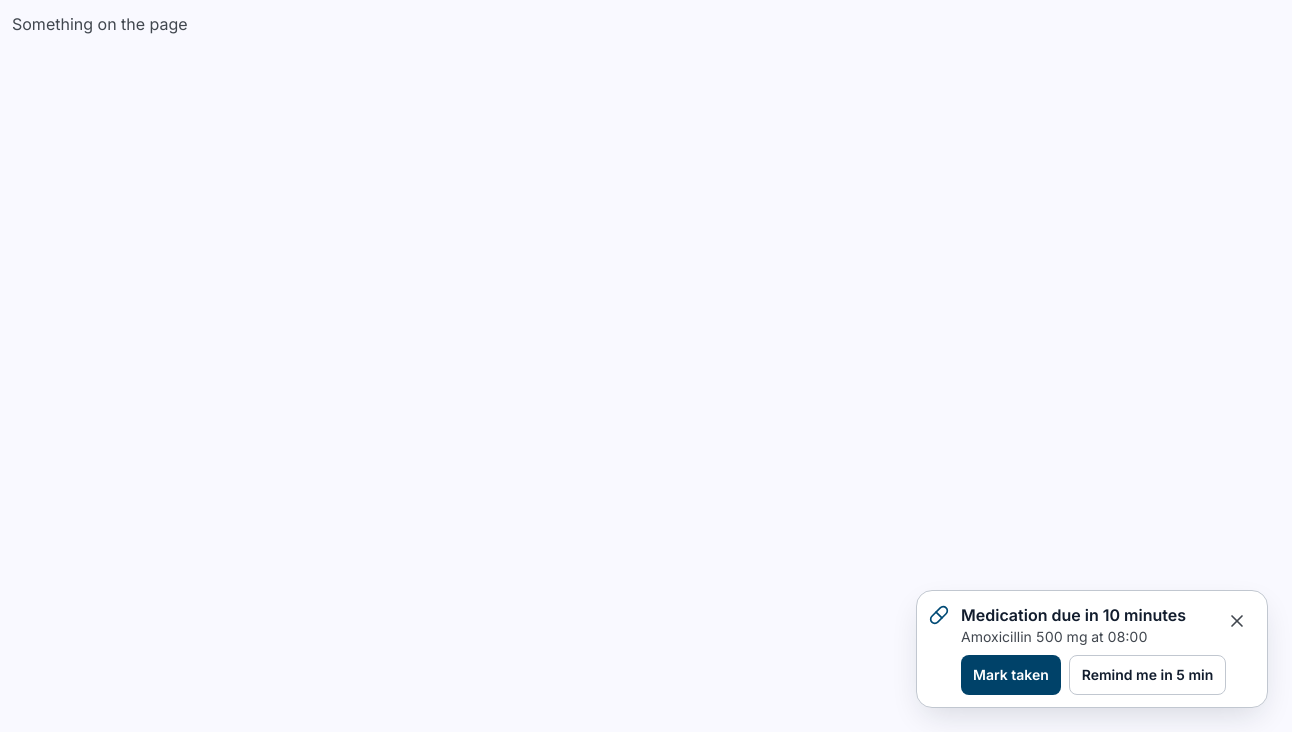
Scenario: the reminder card › snoozes for five minutes, then reminds again
Click the button with aria-label "Remind me in 5 min: Amoxicillin" at coordinates (1148, 675), box [1069,655,1226,695]
Wait 330000 ms
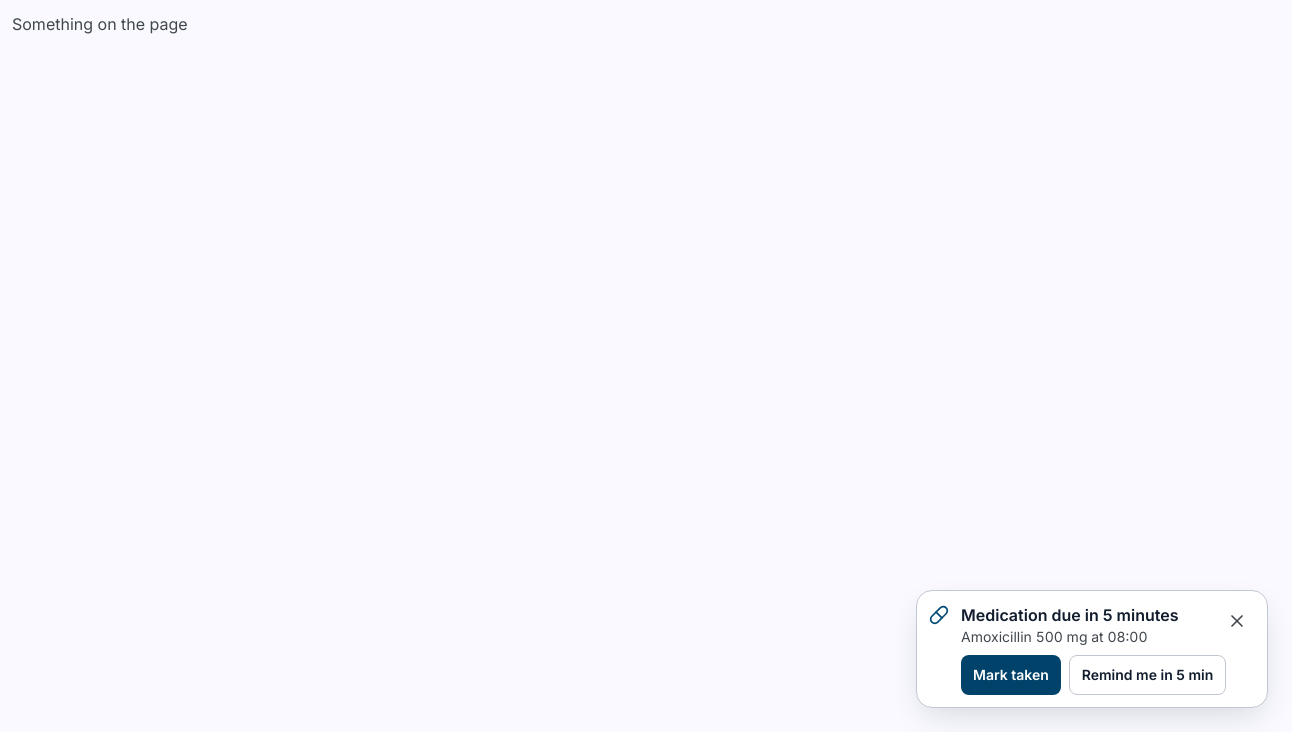
Expected: the text "Medication due in 5 minutes" is shown, [961,603,1203,627]
